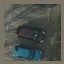car: (16, 25, 44, 44), (12, 46, 41, 61)
